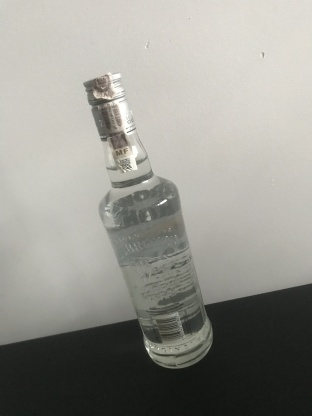nakretka: (81, 69, 137, 142)
